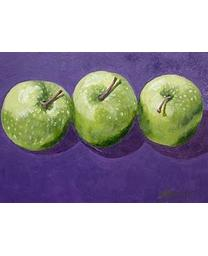apple: (0, 79, 73, 150), (72, 70, 137, 149), (138, 74, 203, 147)
